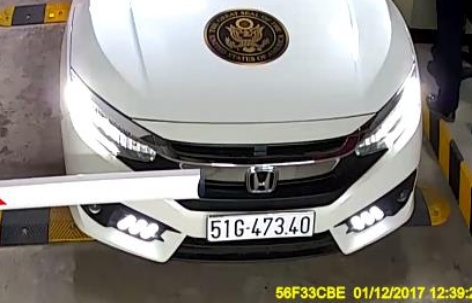plate: (204, 210, 317, 242)
